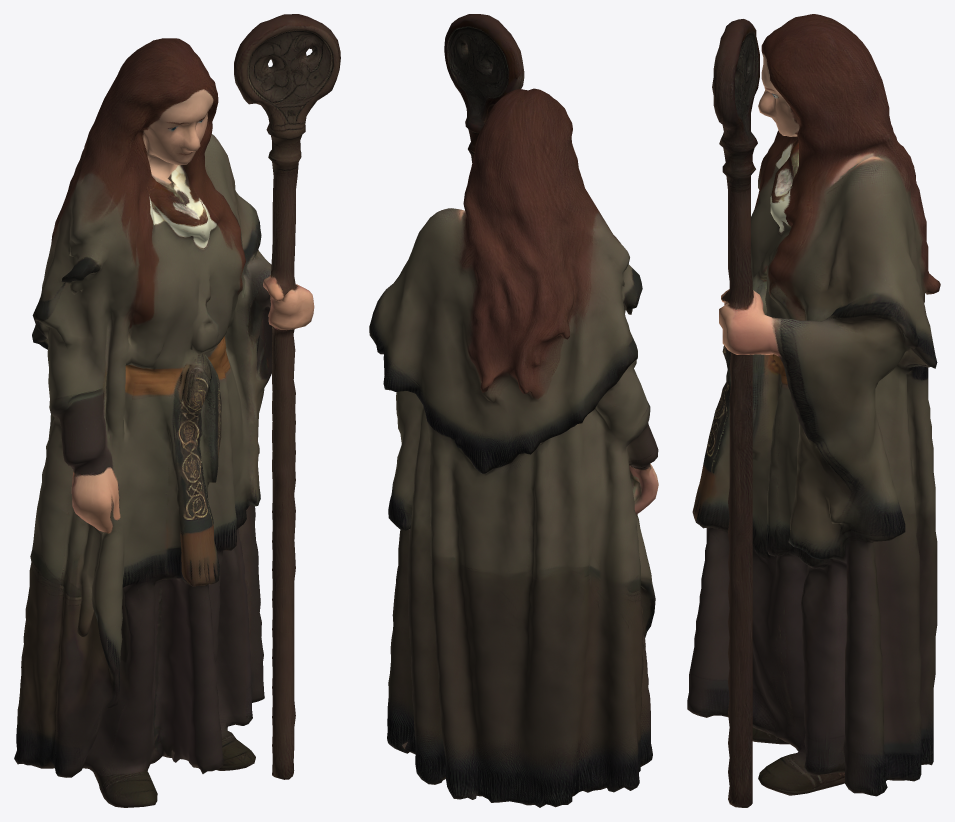
File: 3charac.glb
The picture shows the model from 3 angles, left to right: view 1: azimuth 30°, elevation 25°; view 2: azimuth 150°, elevation 25°; view 3: azimuth 270°, elevation 25°; orthographic projection. The views are drawn at different scales.
Bounding box in the file's own units: 0.6888 × 1.91 × 0.5597.
Materials: 1 (1 with a texture image).
